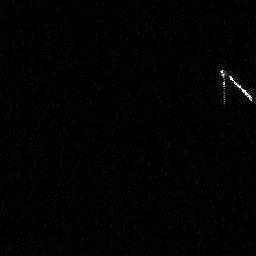ship: (220, 67, 254, 104)
